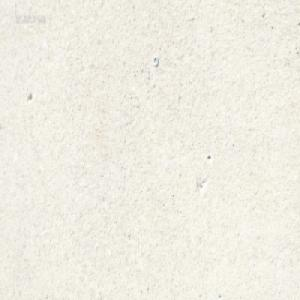Washer: (152, 56, 158, 67)
